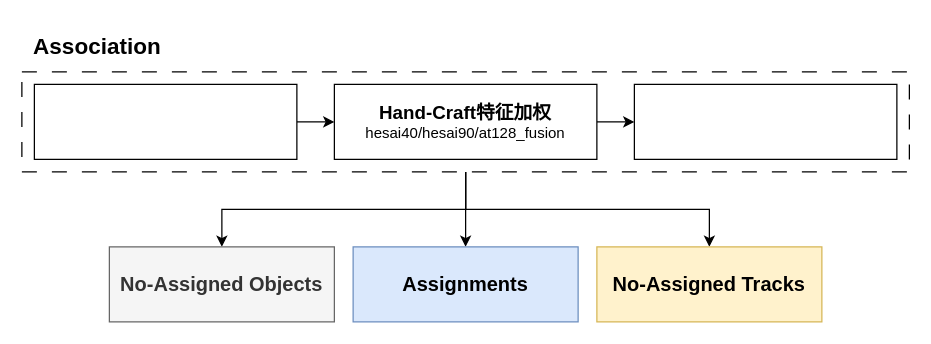
Some shapes in this 931 by 344 pixel diagram are drawn without their labels. The box of each missing label's shape, as (x1, y1, x2, y2) in pixels:
Hand-Craft特征计算 Location/IoU/Direction/PointNum/...: (33, 83, 297, 159)
匹配求解 Hungarian/KM/ GNN: (633, 83, 897, 159)
